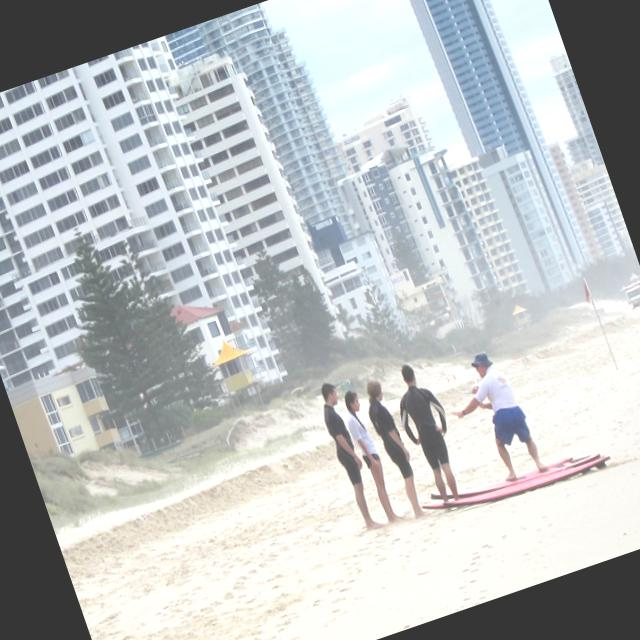Vehicle: (621, 280, 640, 311)
